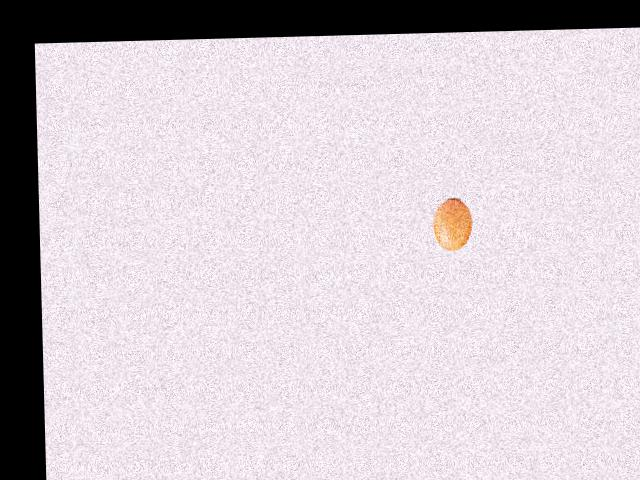egg: (433, 197, 473, 251)
